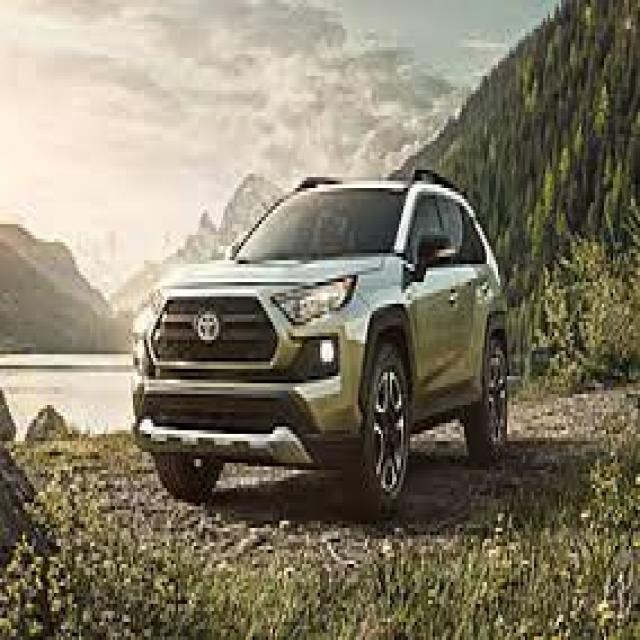light_vehicle: (128, 175, 512, 512)
